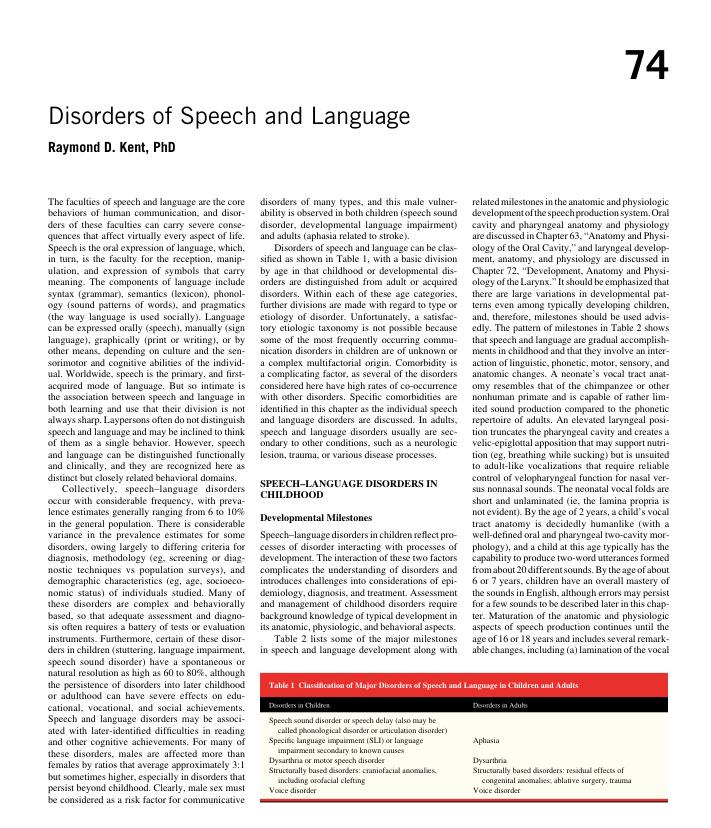caption: (268, 681, 579, 691)
chapter-heading: (46, 102, 412, 131)
section-heading: (259, 478, 439, 501)
sub-section-heading: (259, 512, 373, 524)
table: (260, 696, 669, 801)
text: (47, 196, 247, 804), (470, 196, 670, 657), (258, 196, 459, 462), (259, 529, 458, 657)
